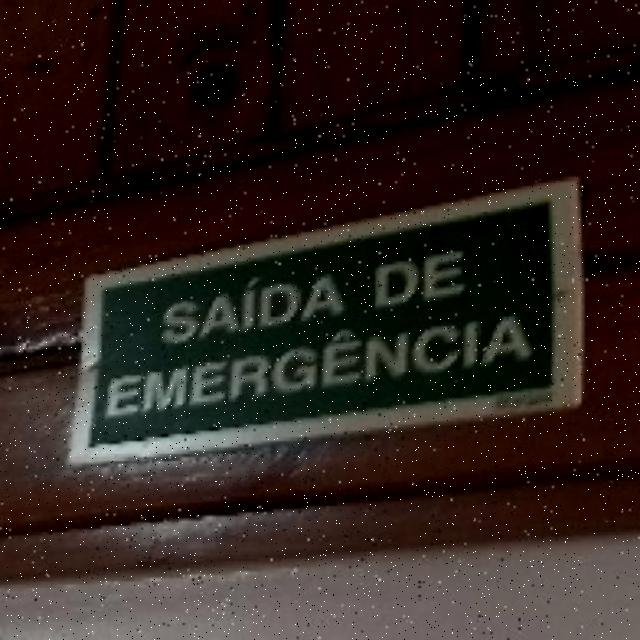emergency_exit: (66, 175, 586, 468)
